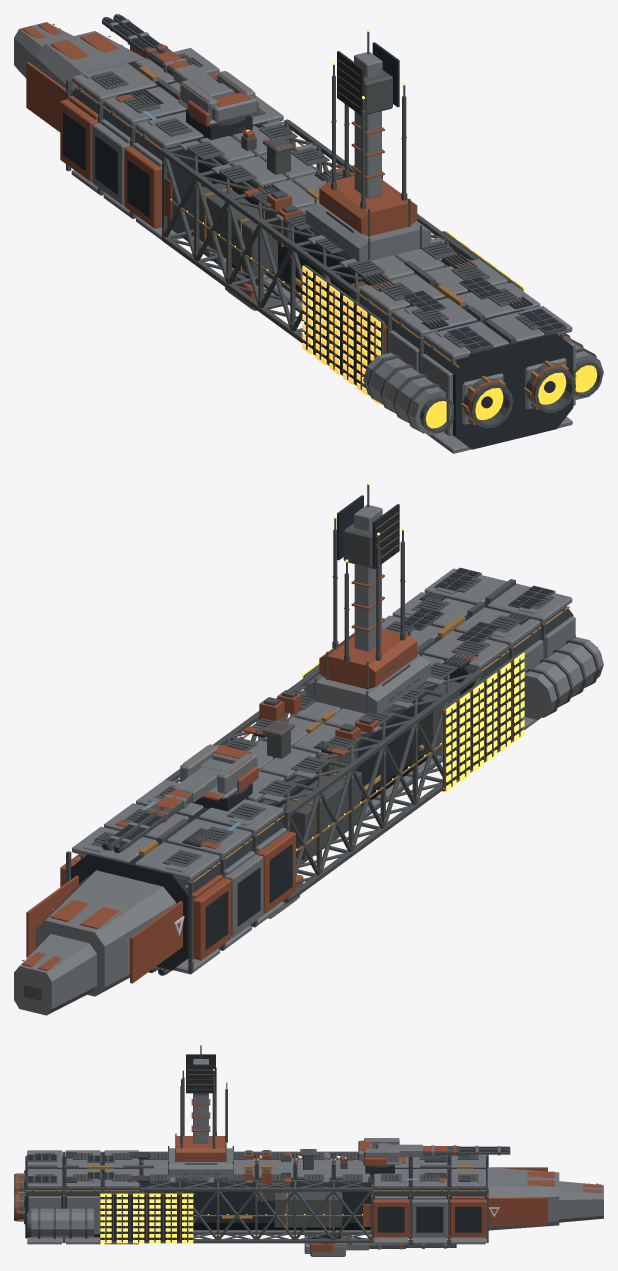
The model's file is mars_escort.glb.
The picture shows the model from 3 angles, top to bottom: view 1: azimuth 30°, elevation 25°; view 2: azimuth 150°, elevation 25°; view 3: azimuth 270°, elevation 25°; orthographic projection. The views are drawn at different scales.
Parts seen in each view (by area): view 1: FleetHull, mesh_recoil_gun_1, mesh_turret_gun_1; view 2: FleetHull, mesh_recoil_gun_1, mesh_turret_gun_1; view 3: FleetHull, mesh_recoil_gun_1, mesh_turret_gun_1, mesh_recoil_gun_2, mesh_turret_gun_2.
Boxes of the visible parts, box(x1,y1,x2,y2) form: FleetHull: box(14, 22, 603, 453); mesh_recoil_gun_1: box(102, 14, 235, 98); mesh_turret_gun_1: box(178, 71, 258, 126); FleetHull: box(14, 482, 603, 1015); mesh_recoil_gun_1: box(102, 758, 231, 853); mesh_turret_gun_1: box(180, 744, 258, 800); FleetHull: box(14, 1044, 603, 1244); mesh_recoil_gun_1: box(376, 1143, 510, 1156); mesh_turret_gun_1: box(358, 1138, 405, 1165); mesh_recoil_gun_2: box(346, 1238, 456, 1250); mesh_turret_gun_2: box(304, 1235, 351, 1256).
Bounding box in the file's own units: 62.54 × 107 × 277.
